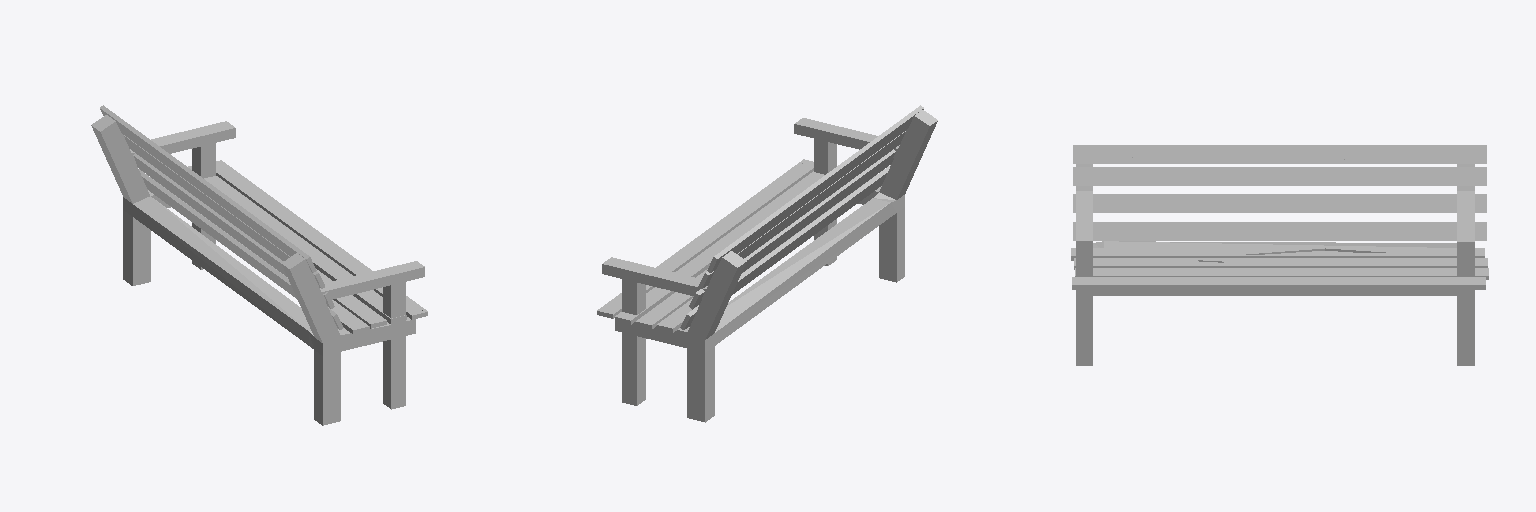
The model's file is Low poly bench.obj.
3 views of the same model, side by side, from view 1: azimuth 30°, elevation 25°; view 2: azimuth 150°, elevation 25°; view 3: azimuth 270°, elevation 25° (orthographic).
Visible parts, largest first — view 1: Bench_Cube; view 2: Bench_Cube; view 3: Bench_Cube.
Part boxes in pixels (x1,y1,x2,y2): Bench_Cube: (91,105,427,425); Bench_Cube: (597,105,937,422); Bench_Cube: (1071,145,1488,365).
Bounding box in the file's own units: 4.61 × 5.62 × 12.24.